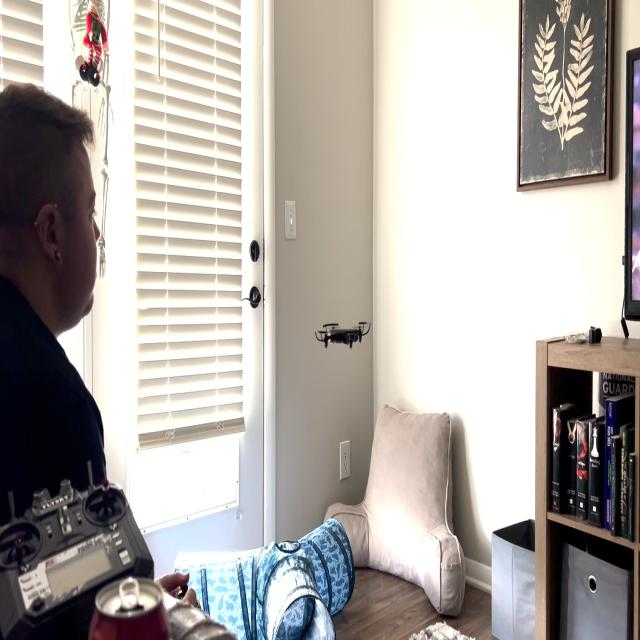drone: (308, 307, 374, 356)
